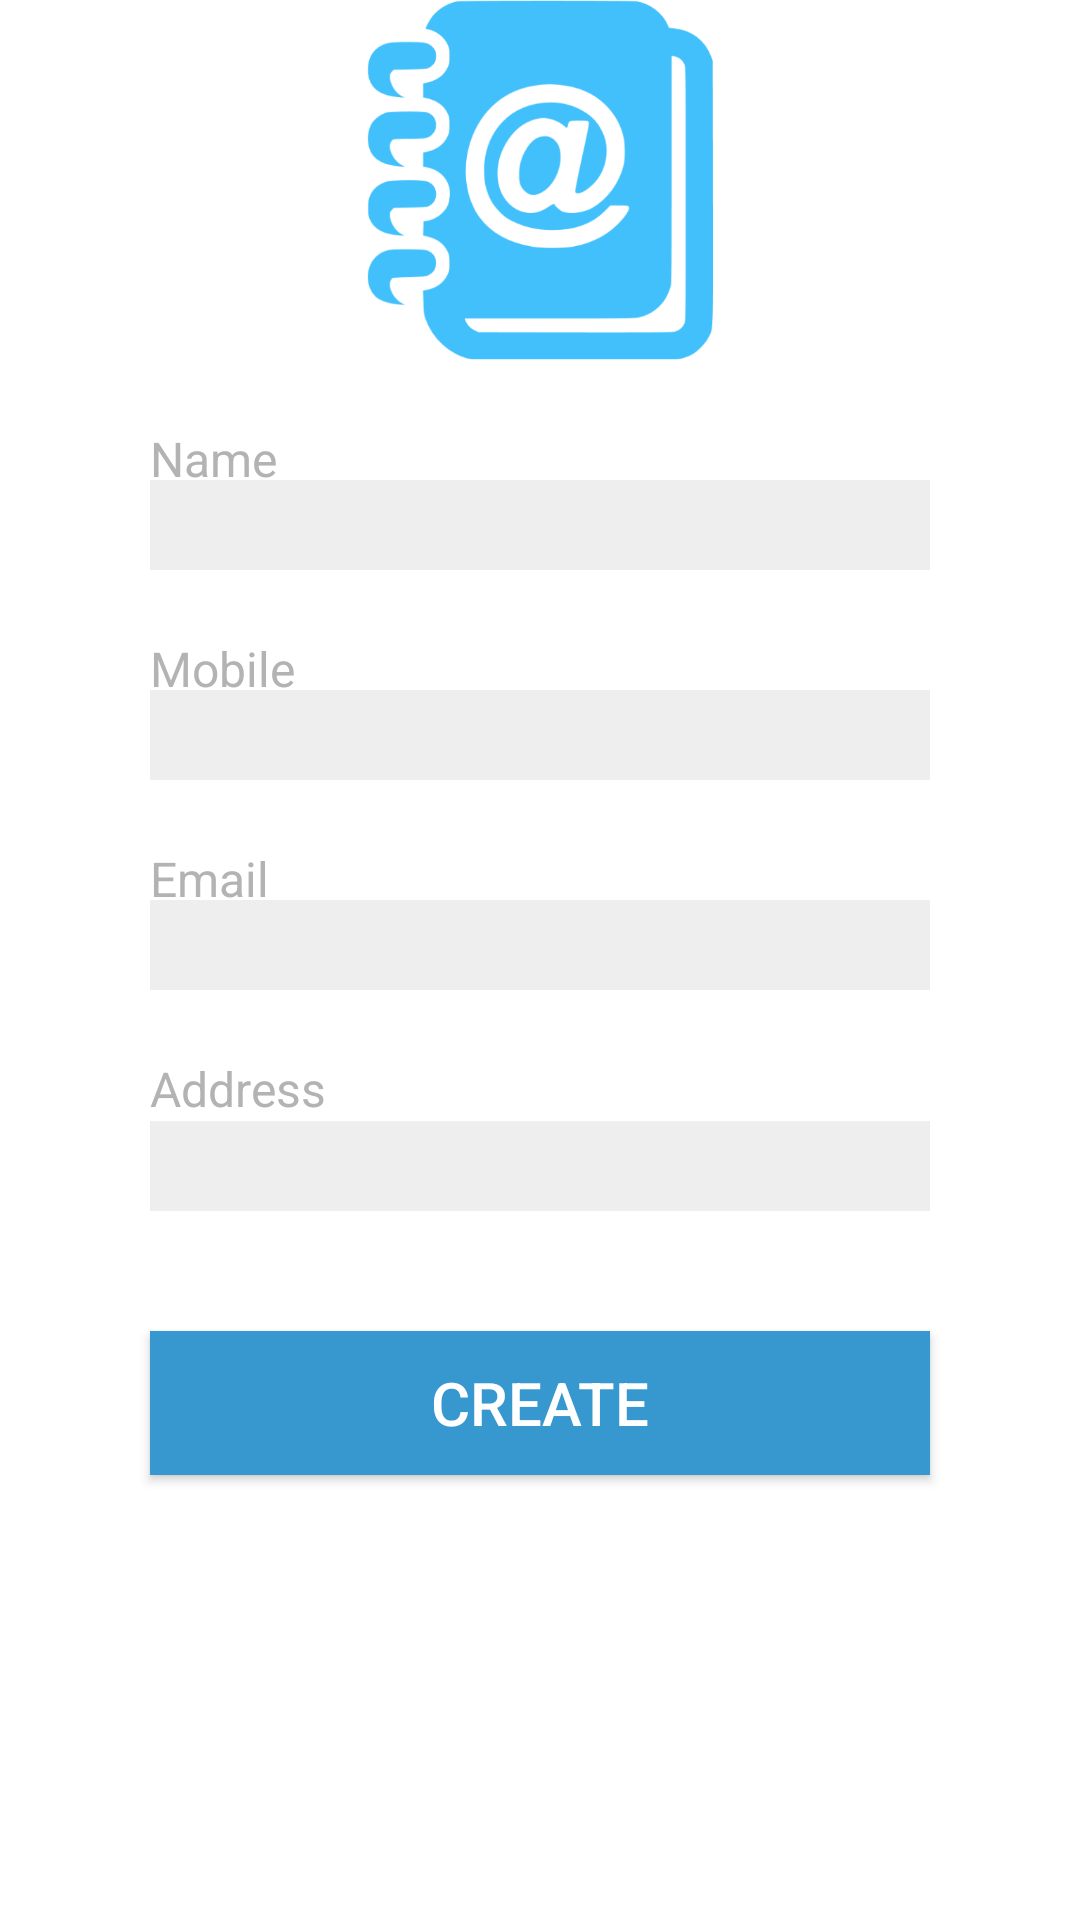

Icons on this 1080 × 1920 Android screen, each with its box as (x1, y1, x2, y2):
contacts: (367, 0, 713, 360)
